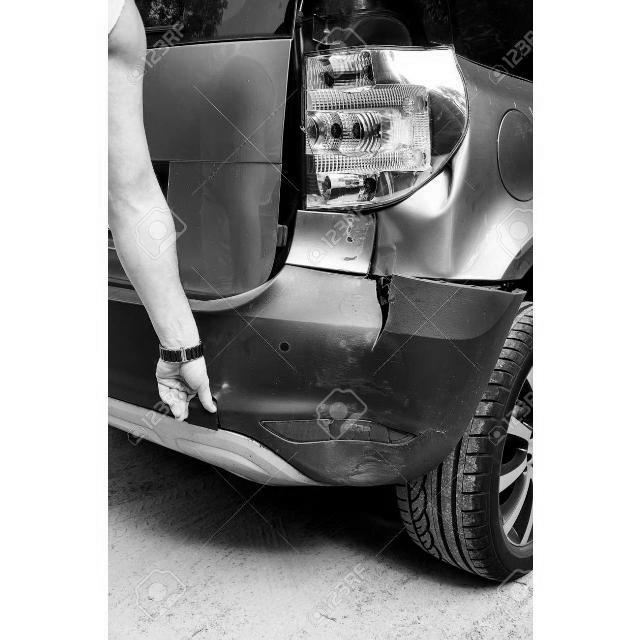Taillight-Damage: (281, 19, 427, 240)
rear-bumper-dent: (241, 221, 405, 417), (171, 53, 299, 303)
